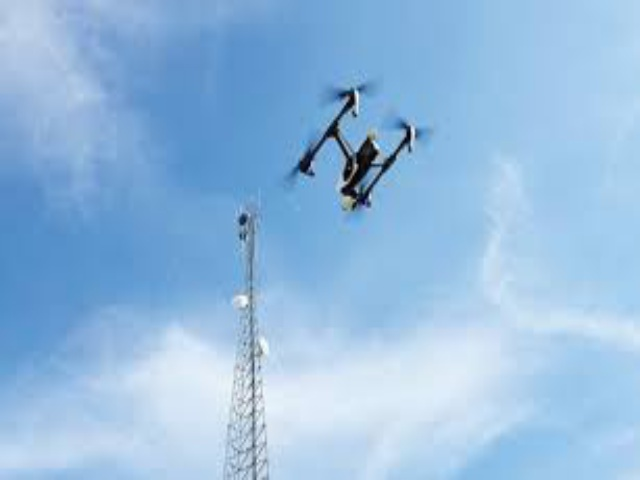drone: (273, 65, 449, 228)
